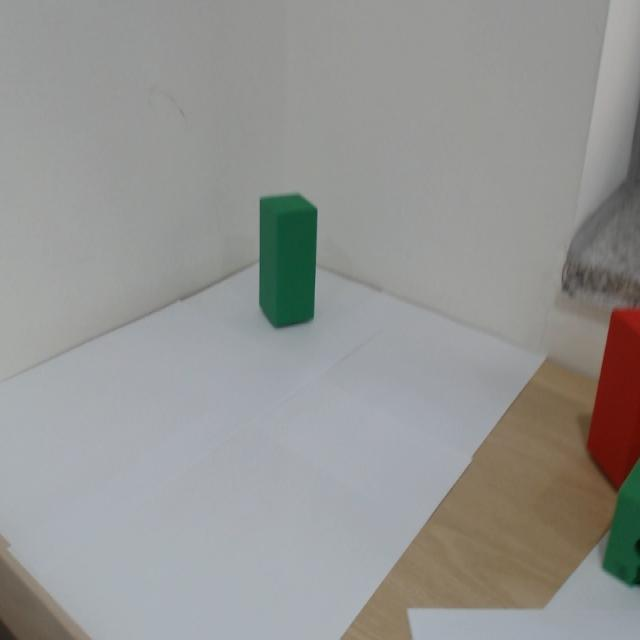cube: (227, 180, 365, 392)
